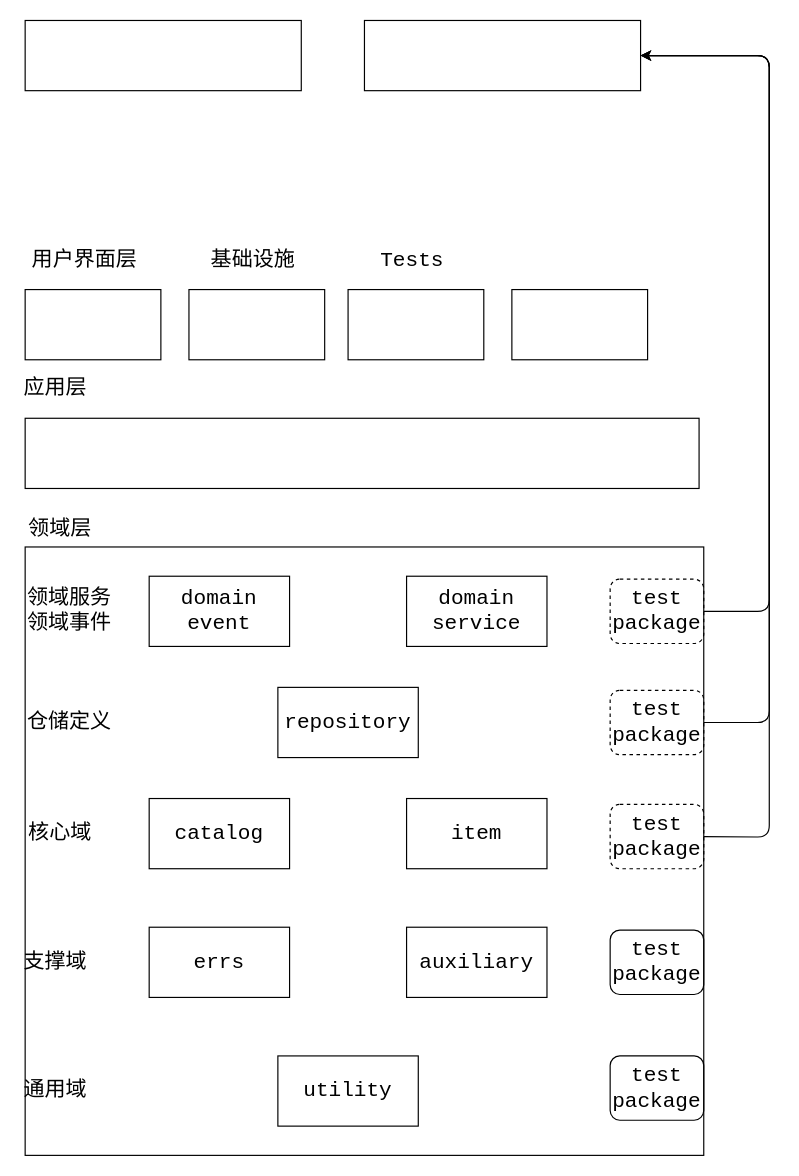
Some shapes in this 799 by 1176 pixel diagram are drawn without their labels. Here are the shapes that lost their labels. From the top down, the centre of each, then its label:
point (162, 55): main
point (502, 55): test
